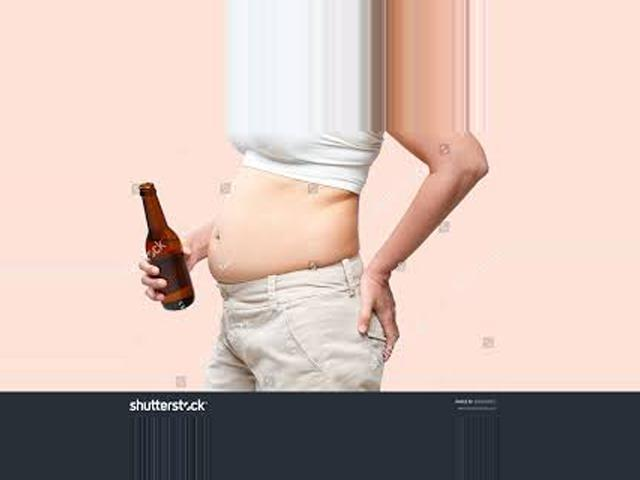beer: (138, 184, 197, 312)
